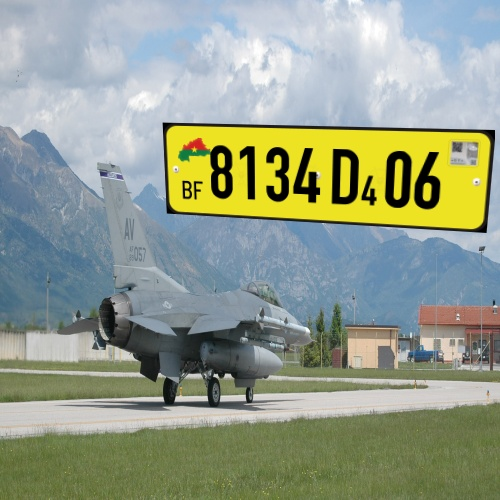plate: (151, 105, 500, 246)
